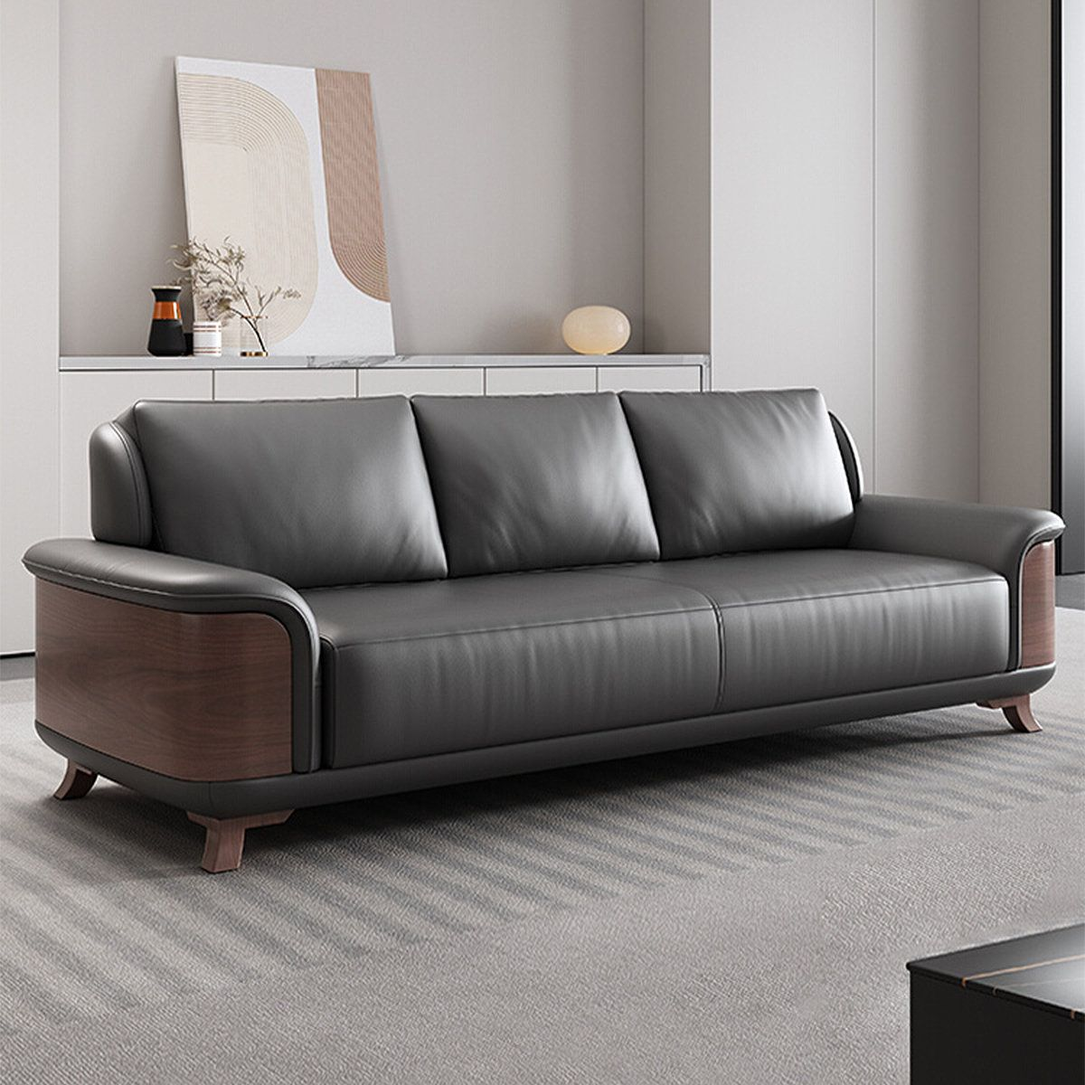3seatersofa: (24, 389, 1062, 872)
backrest: (90, 390, 861, 588)
base: (35, 663, 1054, 814)
leftarmrest: (852, 495, 1063, 668)
leg: (188, 811, 292, 873), (981, 695, 1041, 732), (54, 762, 96, 799)
rightarmrest: (27, 542, 317, 783)
seat: (305, 549, 1009, 766)
